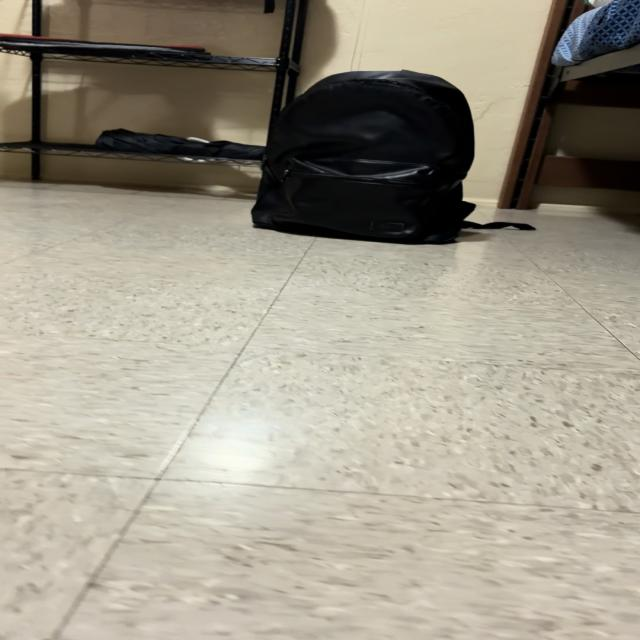backpack: (252, 71, 480, 243), (490, 222, 508, 228), (513, 225, 532, 228)
